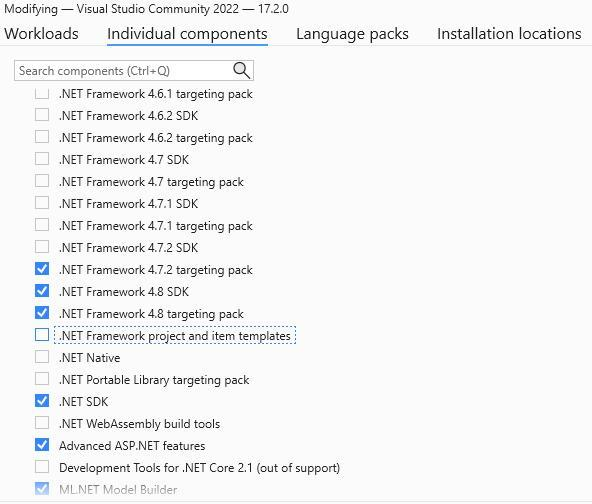checkbox: (35, 285, 51, 299), (35, 483, 51, 497), (35, 439, 50, 453), (35, 219, 51, 232), (35, 373, 51, 386), (36, 152, 50, 166), (36, 416, 50, 430), (36, 460, 50, 474), (36, 241, 51, 254), (36, 263, 51, 276), (35, 307, 50, 320), (36, 395, 51, 408), (36, 351, 50, 364), (36, 110, 51, 122), (36, 197, 51, 209), (36, 131, 49, 144), (36, 88, 50, 100), (36, 176, 50, 188), (36, 329, 50, 341)
icon: (230, 61, 253, 79)
input: (15, 62, 255, 82)
label: (59, 461, 342, 475), (59, 263, 256, 280), (58, 220, 253, 236), (59, 308, 248, 323), (60, 331, 293, 343), (60, 88, 257, 102), (59, 373, 253, 387), (60, 133, 258, 145), (59, 177, 249, 189), (59, 196, 201, 212), (60, 153, 195, 169), (59, 418, 225, 431), (60, 108, 203, 123), (58, 241, 201, 256), (59, 481, 179, 498), (60, 286, 194, 300), (59, 441, 210, 453), (59, 394, 111, 410), (59, 354, 123, 366)
